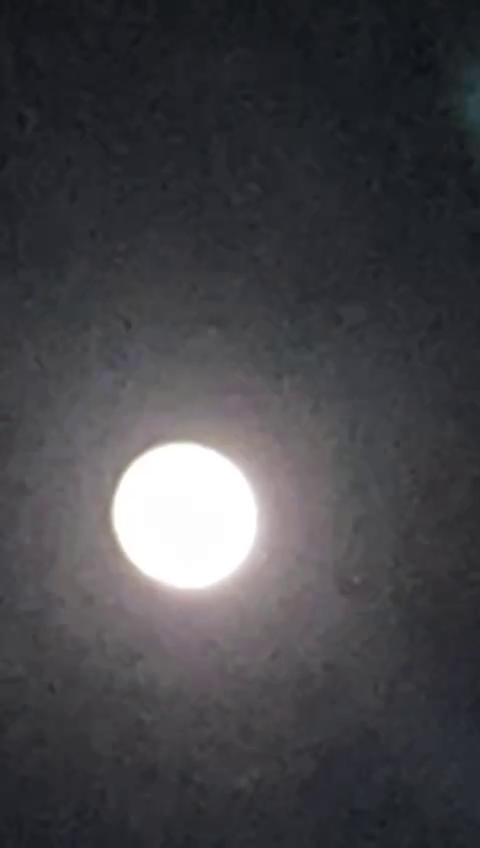moon: (96, 398, 264, 589)
